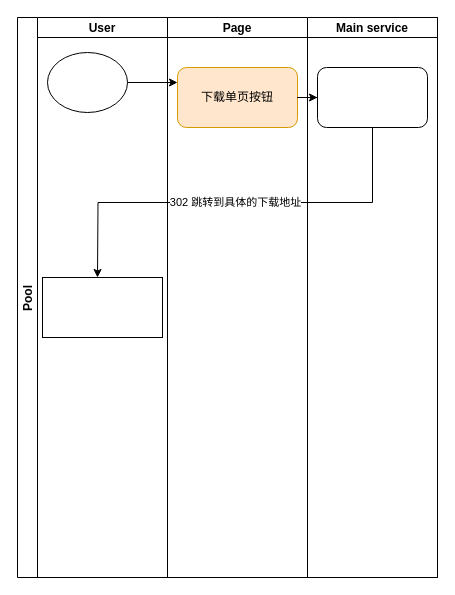
This 455x595 diagram has some shape labels left out. Here are the shapes that lost their labels. From the top down, the centre of each, then its label:
At [87,82]: "用户点击下载".
At [372,97]: "version.download 接口".
At [102,307]: "用户浏览器下载得到文件".
